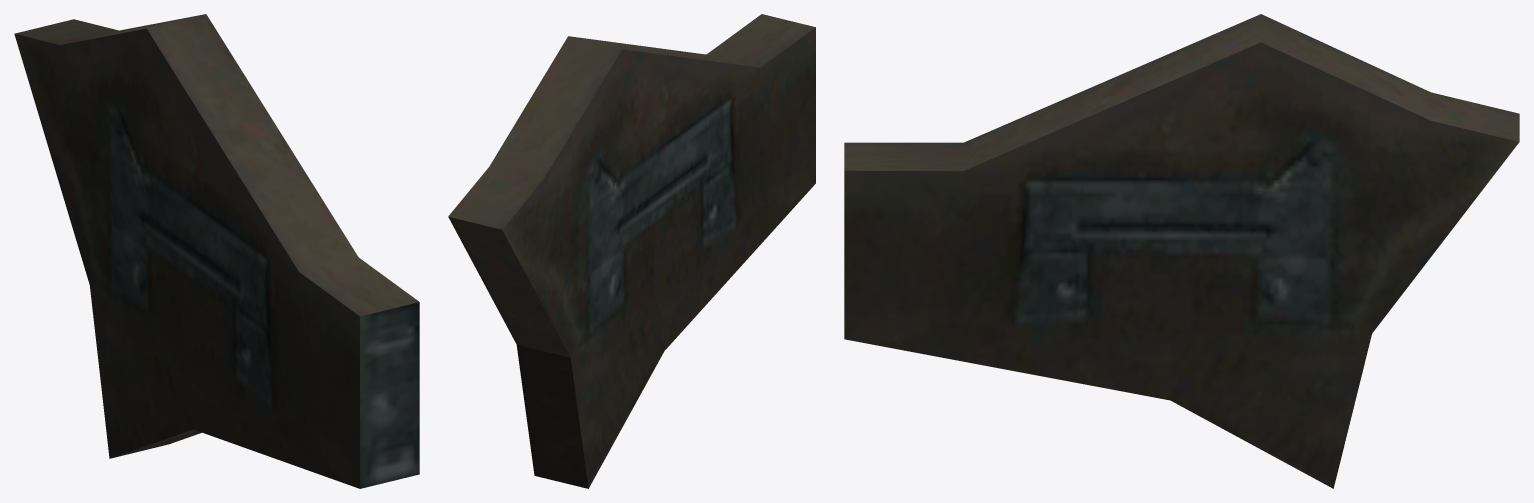
The model's file is wp_rifle_laser_stock_l1.fbx.
3 views of the same model, side by side, from view 1: azimuth 30°, elevation 25°; view 2: azimuth 150°, elevation 25°; view 3: azimuth 270°, elevation 25° (orthographic). The views are drawn at different scales.
Visible parts, largest first — view 1: mesh_node; view 2: mesh_node; view 3: mesh_node.
Boxes of the visible parts, left/top/right/bottom form: mesh_node: left=14, top=14, right=419, bottom=488; mesh_node: left=448, top=14, right=815, bottom=488; mesh_node: left=844, top=14, right=1519, bottom=488.
Size of the model in its own units: 0.0173 by 0.1272 by 0.1742.
